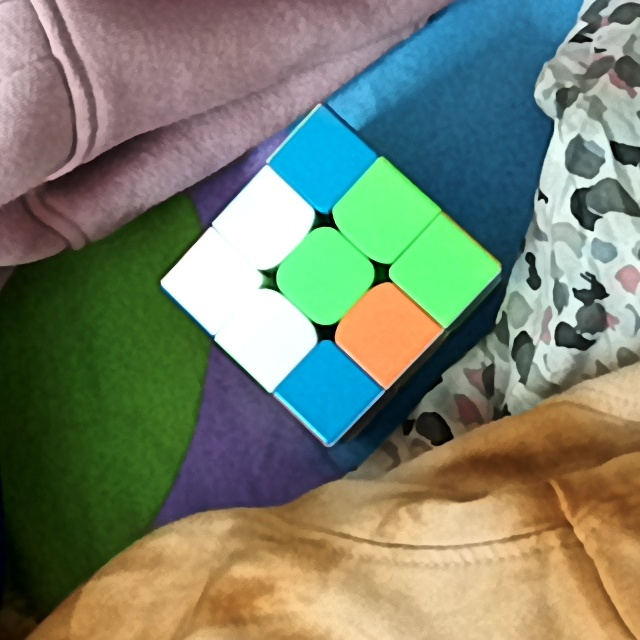tile: (415, 242, 474, 298), (296, 247, 351, 301), (295, 133, 348, 189), (359, 185, 413, 239), (238, 194, 291, 248), (303, 364, 355, 417), (360, 309, 412, 361), (244, 310, 294, 362), (187, 253, 236, 305)
